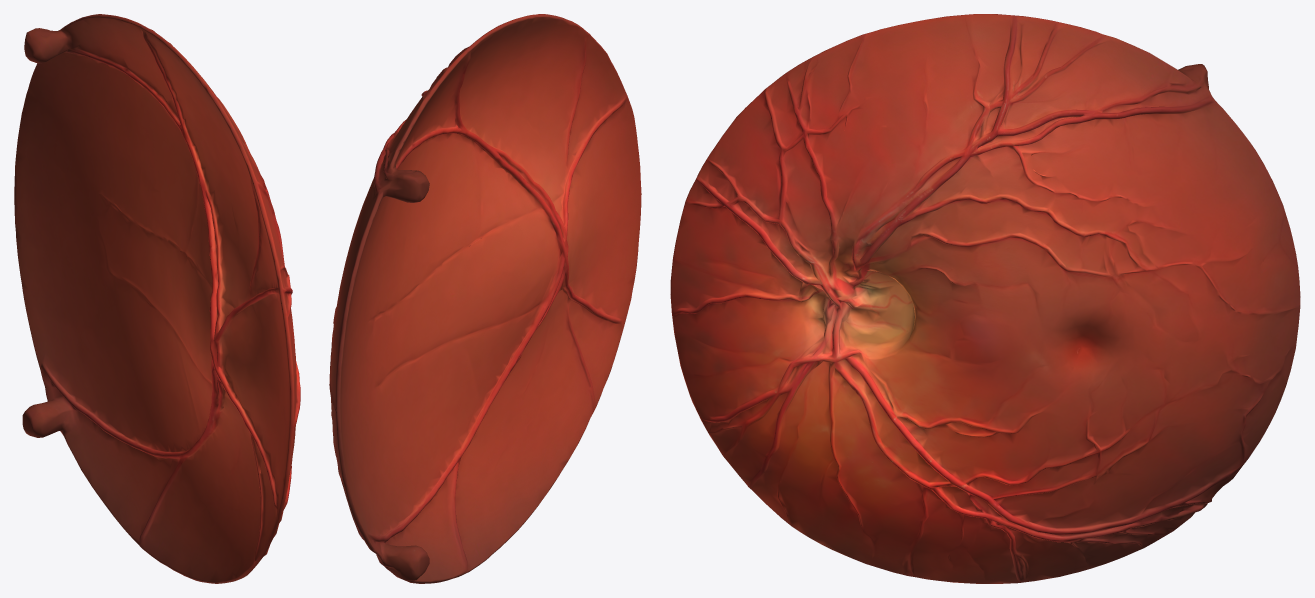
Rendered from eye.glb.
3 renders of one model, left to right at view 1: azimuth 30°, elevation 25°; view 2: azimuth 150°, elevation 25°; view 3: azimuth 270°, elevation 25°, orthographic. The views are drawn at different scales.
Parts seen in each view (by area): view 1: tripo_node_71f2d5da-735d-48e8-a627-25955fead70b; view 2: tripo_node_71f2d5da-735d-48e8-a627-25955fead70b; view 3: tripo_node_71f2d5da-735d-48e8-a627-25955fead70b.
Boxes of the visible parts, left/top/right/bottom form: tripo_node_71f2d5da-735d-48e8-a627-25955fead70b: left=14, top=14, right=300, bottom=583; tripo_node_71f2d5da-735d-48e8-a627-25955fead70b: left=329, top=14, right=641, bottom=583; tripo_node_71f2d5da-735d-48e8-a627-25955fead70b: left=670, top=14, right=1300, bottom=583.
Size of the model in its own units: 0.2183 by 0.9974 by 1.
1 material, 1 textured.
